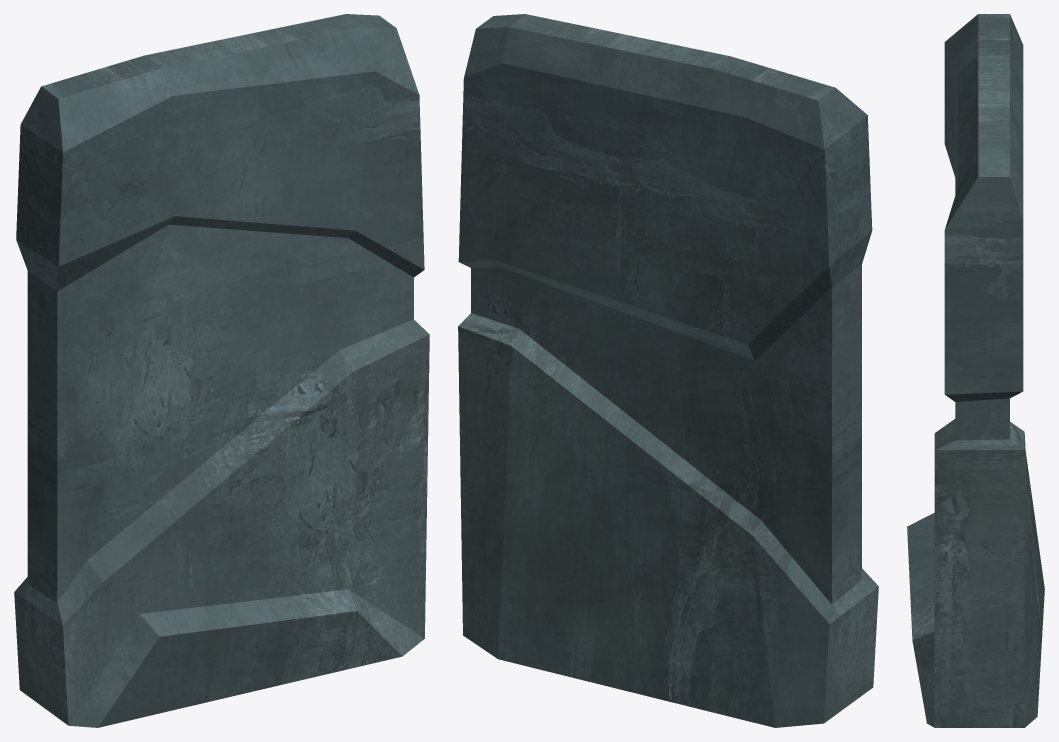
The model's file is RockWall_7.fbx.
The picture shows the model from 3 angles, left to right: view 1: azimuth 30°, elevation 25°; view 2: azimuth 150°, elevation 25°; view 3: azimuth 270°, elevation 25°; orthographic projection. The views are drawn at different scales.
Parts seen in each view (by area): view 1: pCube5; view 2: pCube5; view 3: pCube5.
Boxes of the visible parts, x1,y1,x2,y2 form: pCube5: (14,14,429,727); pCube5: (458,14,878,727); pCube5: (907,14,1044,727).
Bounding box in the file's own units: 8.53 × 13.78 × 3.01.
